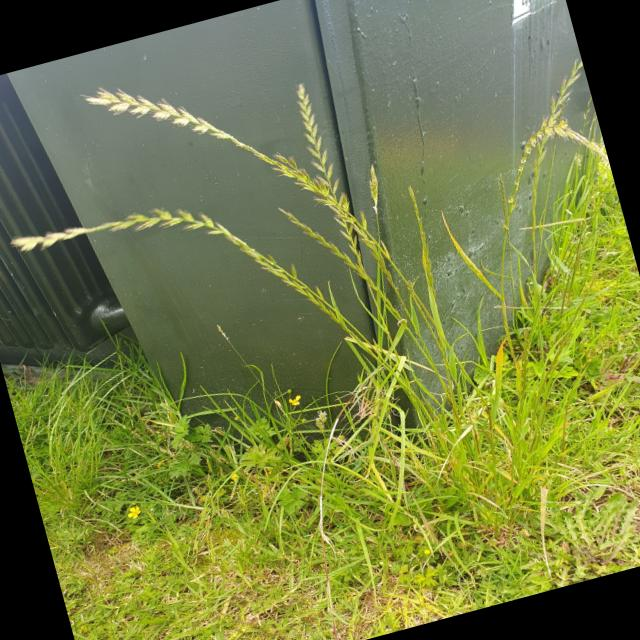Lolium: (181, 67, 640, 612), (442, 68, 634, 313), (9, 184, 214, 280), (81, 60, 234, 176), (293, 78, 354, 208)
